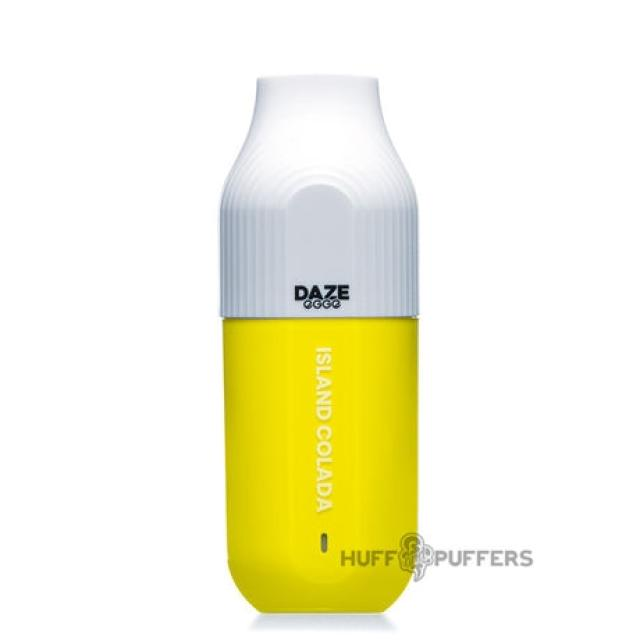Vape-images: (217, 72, 422, 615)
